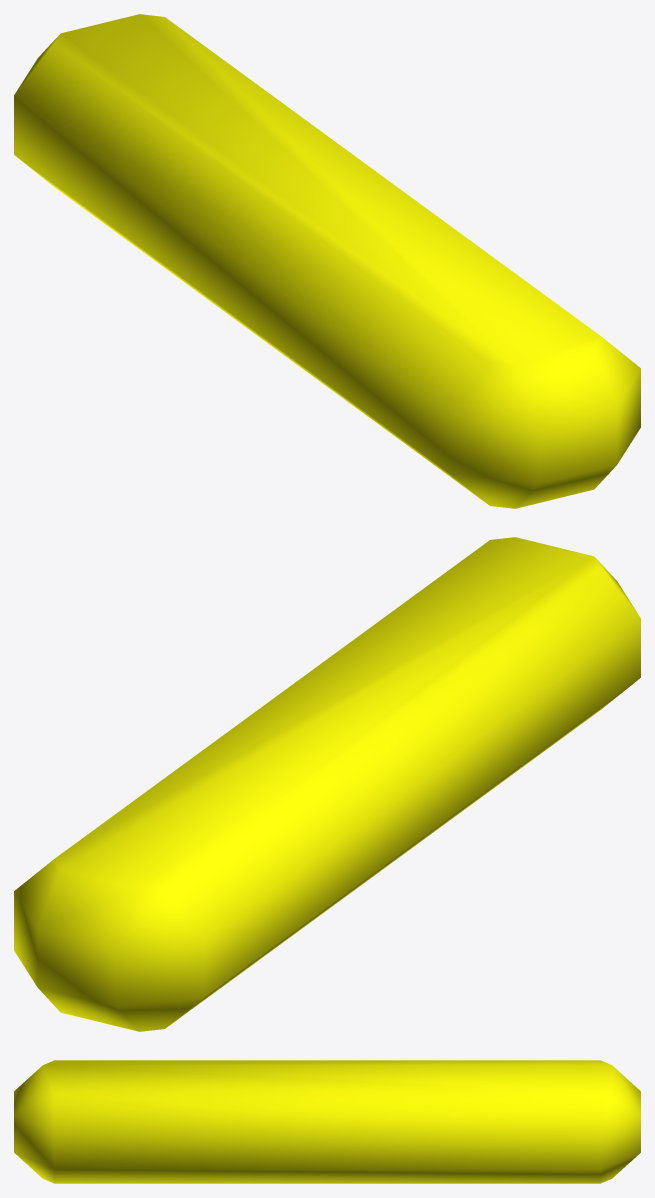
File: arm_link.bbox.gltf
3 renders of one model, top to bottom at view 1: azimuth 30°, elevation 25°; view 2: azimuth 150°, elevation 25°; view 3: azimuth 270°, elevation 25°, orthographic. The views are drawn at different scales.
Visible parts, largest first — view 1: arm_link.bbox; view 2: arm_link.bbox; view 3: arm_link.bbox.
Part boxes in pixels (bbox=[...]): arm_link.bbox: bbox=[14, 14, 640, 508]; arm_link.bbox: bbox=[14, 537, 640, 1031]; arm_link.bbox: bbox=[14, 1060, 640, 1183].
Size of the model in its own units: 0.079 by 0.0565 by 0.359.
